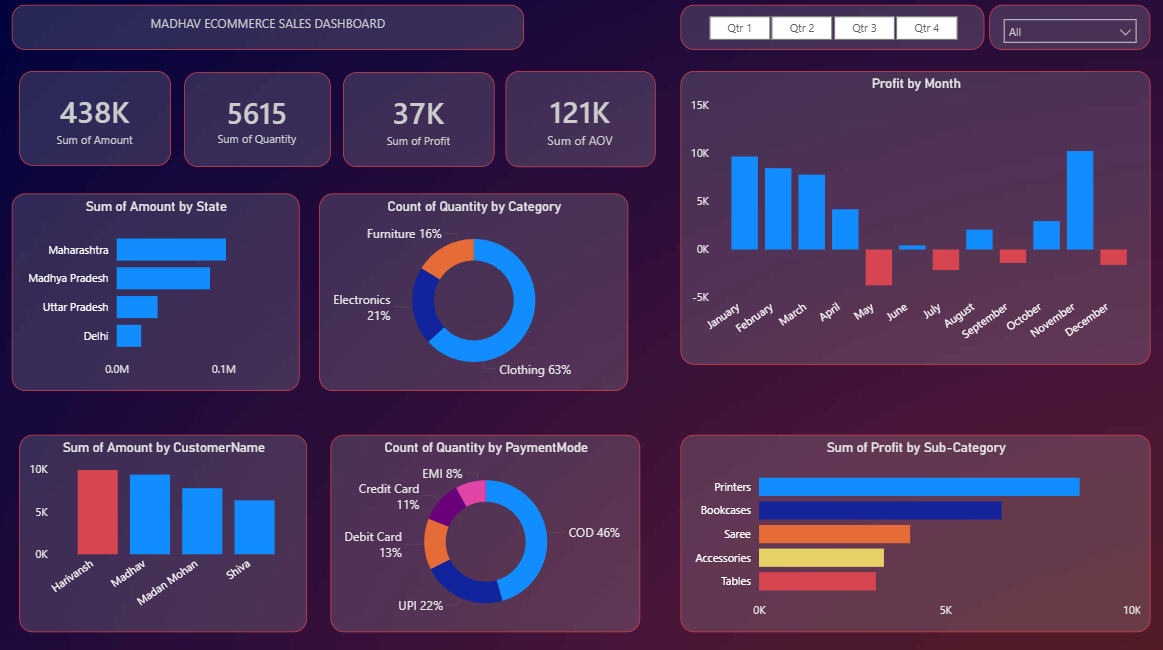

Layout of this report page (visuals, bound fields, positions):
{"tool":"powerbi","page":{"name":"Page 1","canvas":[1280,720],"ordinal":0},"visuals":[{"type":"columnChart","title":"Profit by Month","fields":{"Category":["Orders.Order Date.Variation.Date Hierarchy.Month"],"Y":["Sum(Details.Profit)"]},"box":[749.2,82.3,516,322.5],"z":1000},{"type":"barChart","fields":{"Category":["Details.Sub-Category"],"Y":["Sum(Details.Profit)"]},"box":[749.2,481.6,516,216.8],"z":2000},{"type":"donutChart","fields":{"Category":["Details.Category"],"Y":["CountNonNull(Details.Quantity)"]},"box":[352.7,216.8,338.9,216.8],"z":3000},{"type":"donutChart","fields":{"Y":["CountNonNull(Details.Quantity)"],"Category":["Details.PaymentMode"]},"box":[365,481.6,340.3,216.8],"z":4000},{"type":"cardVisual","fields":{"Data":["Sum(Details.Amount)"]},"box":[23.3,82.3,166,104.3],"z":5000},{"type":"cardVisual","fields":{"Data":["Sum(Details.Quantity)"]},"box":[204.5,83.7,160.5,104.3],"z":6000},{"type":"cardVisual","fields":{"Data":["Sum(Details.Profit)"]},"box":[378.7,83.7,166,104.3],"z":6001},{"type":"cardVisual","fields":{"Data":["Sum(Details.AOV)"]},"box":[557.1,82.3,164.7,105.7],"z":6002},{"type":"barChart","fields":{"Y":["Sum(Details.Amount)"],"Category":["Orders.State"]},"box":[15.1,216.8,315.6,216.8],"z":6003},{"type":"columnChart","fields":{"Category":["Orders.CustomerName"],"Y":["Sum(Details.Amount)"]},"box":[23,482,316,217],"z":6004},{"type":"textbox","box":[15.1,9.6,562.6,49.4],"z":6005},{"type":"slicer","fields":{"Values":["Orders.Order Date.Variation.Date Hierarchy.Quarter"]},"box":[749.2,9.6,333.4,49.4],"z":6006},{"type":"slicer","fields":{"Values":["Orders.State"]},"box":[1088.2,9.6,177,49.4],"z":6007}]}

Visuals, with their boxes in screenshot pixels (x1, y1, x2, y2), scaled from the page's 1280x720 canvas onto the 1163x650 screenshot:
"Profit by Month" columnChart: 681 74 1150 365
barChart - Details.Sub-Category x Sum(Details.Profit): 681 435 1150 631
donutChart - Details.Category x CountNonNull(Details.Quantity): 320 196 628 391
donutChart - CountNonNull(Details.Quantity) x Details.PaymentMode: 332 435 641 631
cardVisual - Sum(Details.Amount): 21 74 172 168
cardVisual - Sum(Details.Quantity): 186 76 332 170
cardVisual - Sum(Details.Profit): 344 76 495 170
cardVisual - Sum(Details.AOV): 506 74 656 170
barChart - Sum(Details.Amount) x Orders.State: 14 196 300 391
columnChart - Orders.CustomerName x Sum(Details.Amount): 21 435 308 631
textbox: 14 9 525 53
slicer - Orders.Order Date.Variation.Date Hierarchy.Quarter: 681 9 984 53
slicer - Orders.State: 989 9 1150 53
